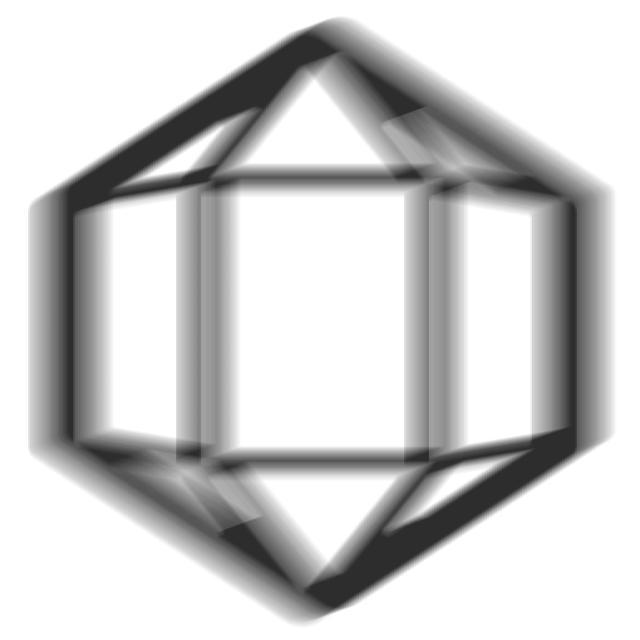crystal: (16, 14, 636, 636)
